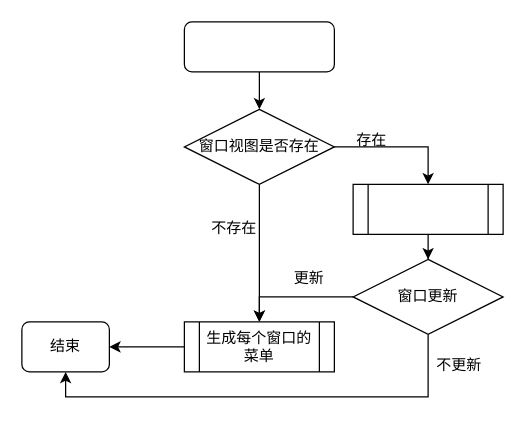
Image size: 525x429. Some labels were removed from this diagram. The shapes that lost their labels are listed below. From the top down, each one's box as (x1, y1, x2, y2) in pixels, then its label:
(183, 21, 334, 72): 窗口视图创建
(352, 183, 503, 234): 查询窗口是否应该更新
